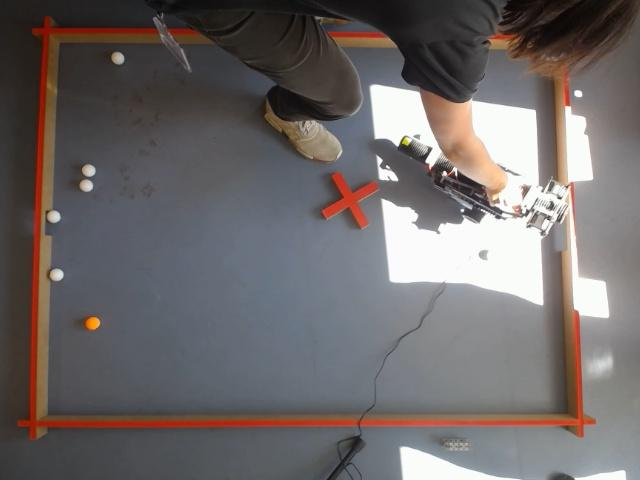orange: (85, 316, 101, 331)
white: (110, 51, 126, 65), (48, 268, 64, 281), (47, 210, 61, 224), (82, 164, 96, 177), (79, 179, 93, 192)
